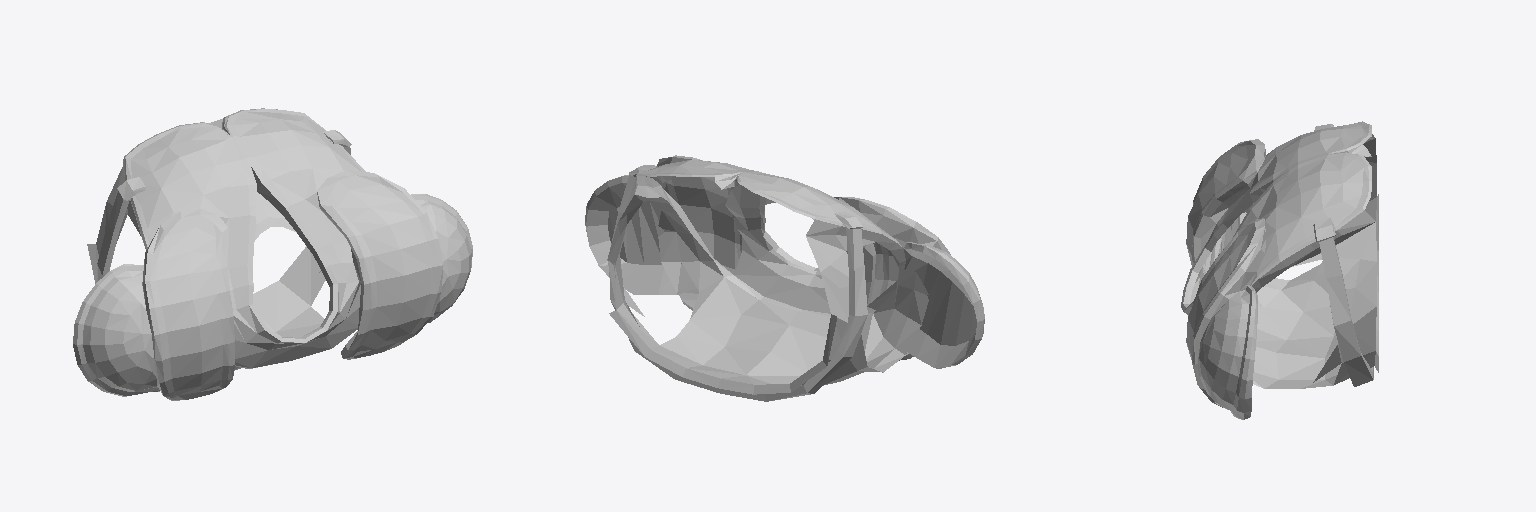
The model's file is mdlTe.obj.
The picture shows the model from 3 angles: view 1: azimuth 30°, elevation 25°; view 2: azimuth 150°, elevation 25°; view 3: azimuth 270°, elevation 25°; orthographic projection.
Parts seen in each view (by area): view 1: mdl.001; view 2: mdl.001; view 3: mdl.001.
Part boxes in pixels (x1,y1,x2,y2): mdl.001: (73,108,472,400); mdl.001: (585,155,984,401); mdl.001: (1181,121,1378,419).
Bounding box in the file's own units: 44.91 × 22.99 × 19.34.